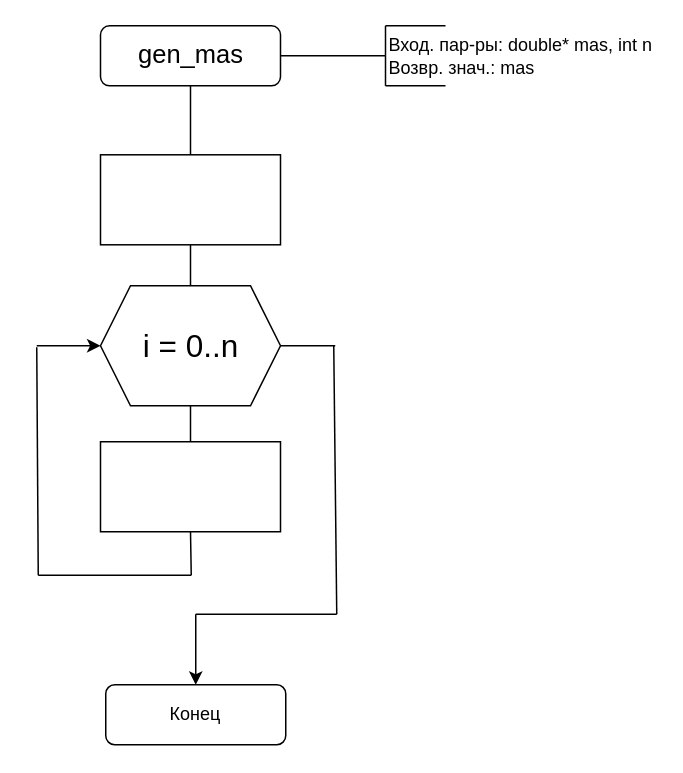
Some shapes in this 683 by 773 pixel diagram are drawn without their labels. Here are the shapes that lost their labels. From the top down, the centre of each, then its label:
the point at 189,199: srand(time(0))
the point at 189,486: mas[i] = ((double)((int)(rand() % 600) - 300)) / 10.0;
